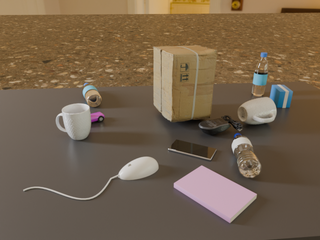book: (174, 166, 257, 223)
bottle: (232, 133, 262, 178), (252, 53, 268, 96), (83, 83, 102, 107)
box: (153, 46, 217, 122), (270, 85, 293, 108)
cup: (56, 104, 91, 140), (238, 97, 276, 124)
mouse: (119, 157, 158, 180), (199, 115, 243, 135)
phone: (168, 140, 217, 161)
toy_car: (91, 112, 104, 122)
